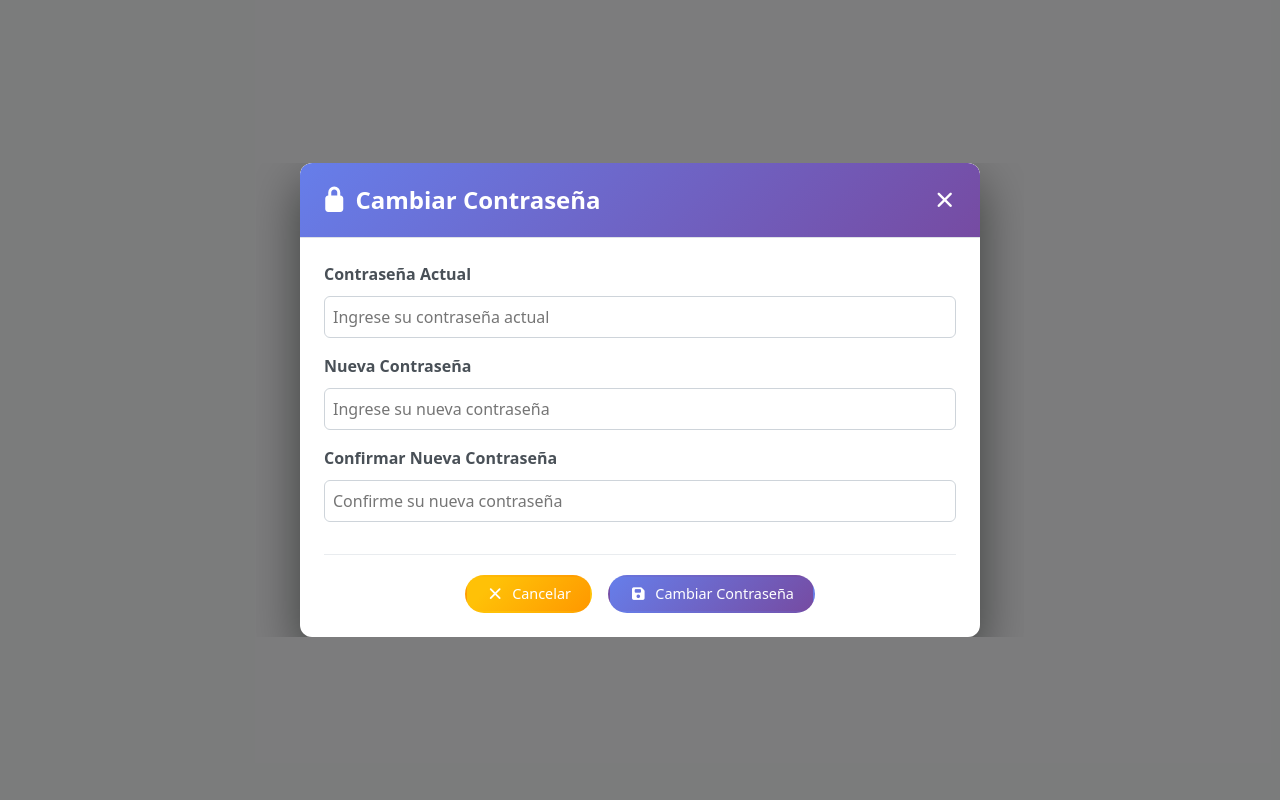
Test case: ChangePassword Component › Prueba 4.3: Debe mostrar error cuando la nueva contraseña es demasiado corta
Type "oldpass123" into the password field labelled "Contraseña Actual" at (640, 317), box [324,296,956,338]
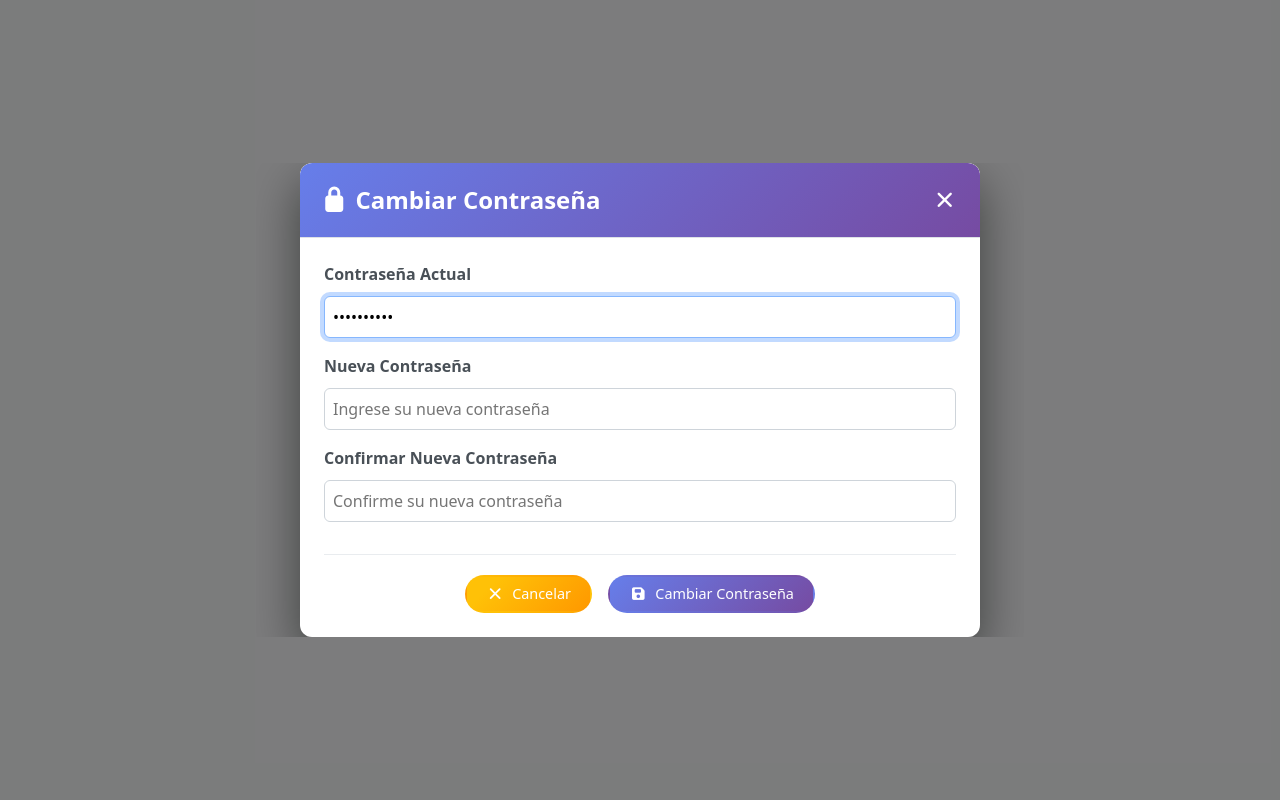
Type "12345" into the password field labelled "Nueva Contraseña" at (640, 409), box [324,388,956,430]
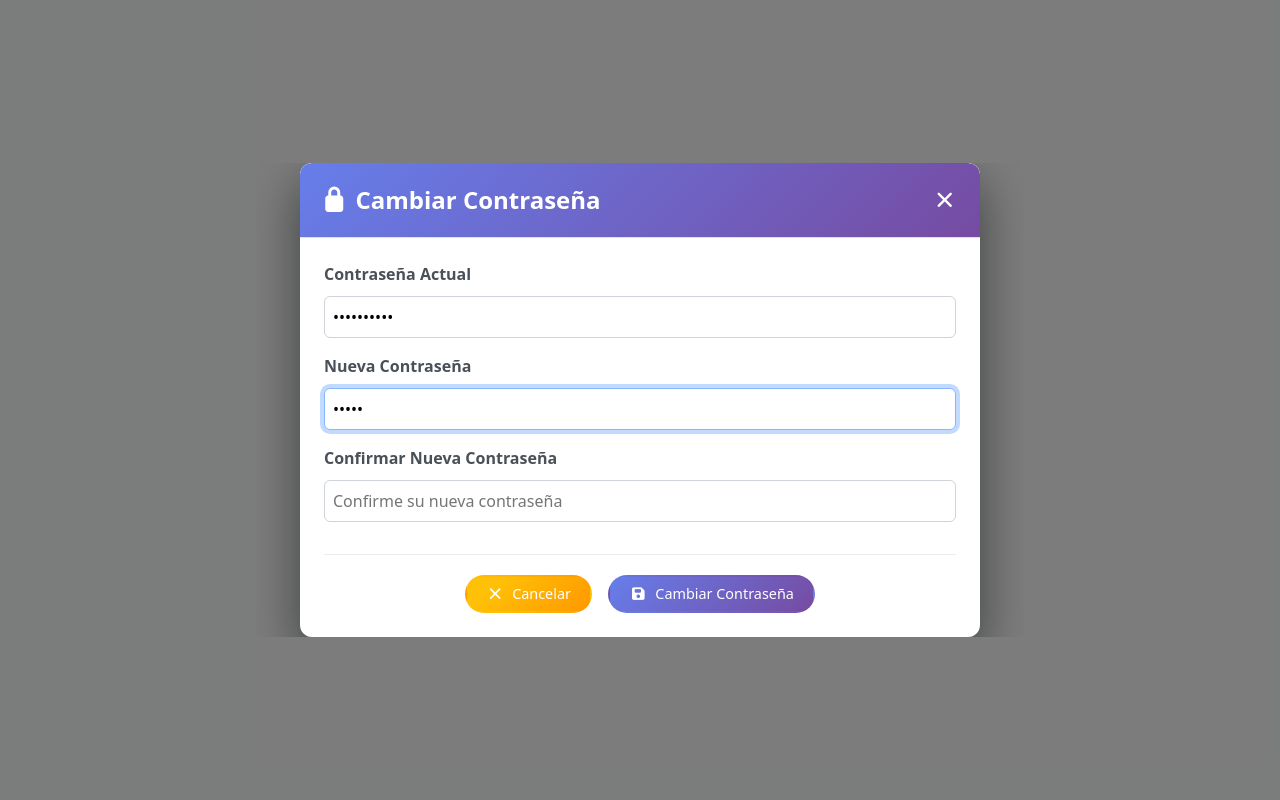
Click the button "Cambiar Contraseña" at (712, 594), box [608,575,815,613]
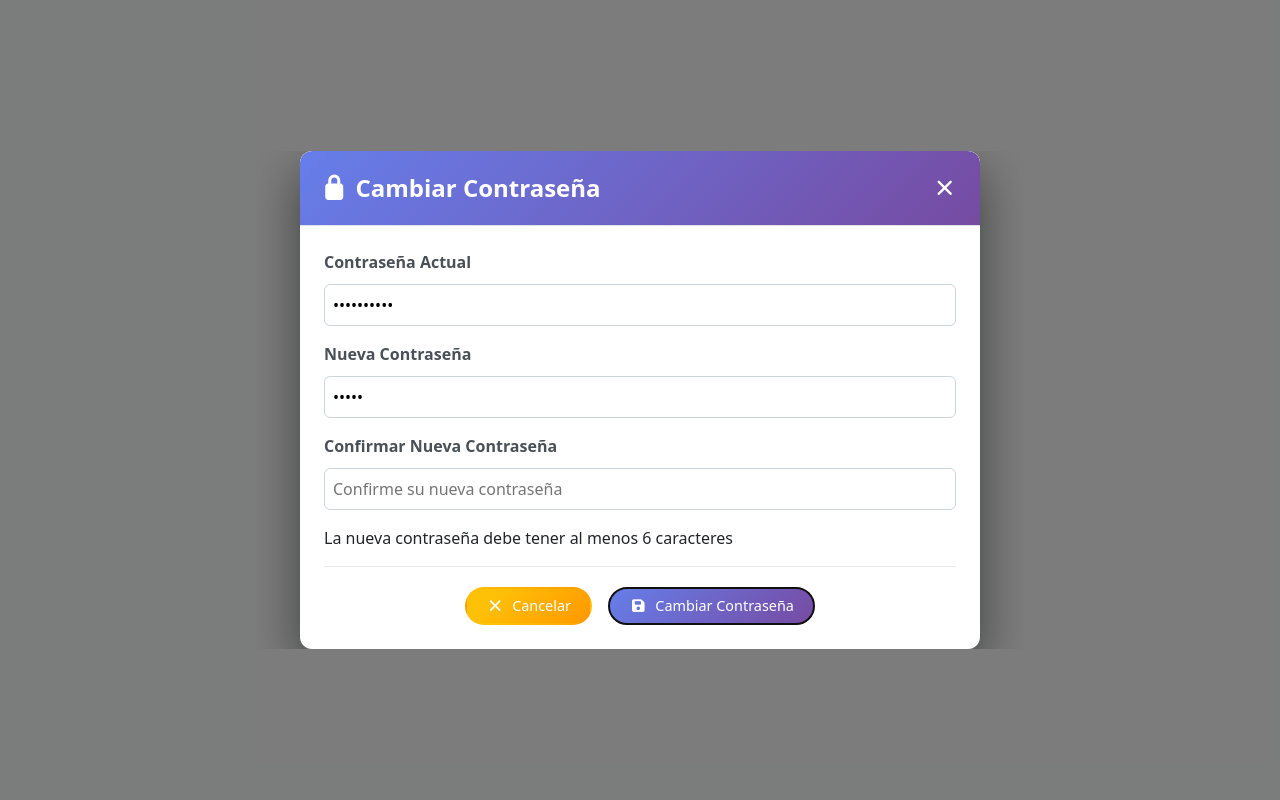
Check: the text "La nueva contraseña debe tener al menos 6 caracteres" is shown, box [324,527,733,549]
